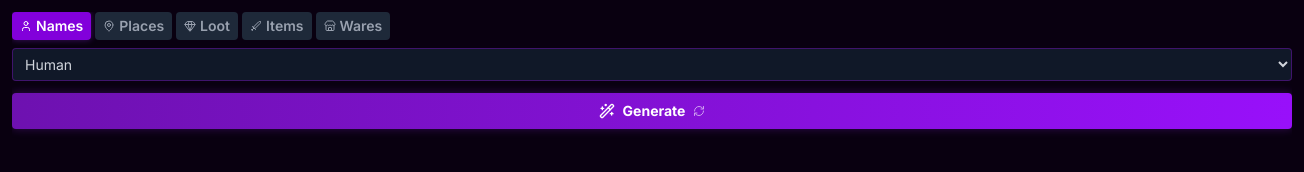
Scenario: OracleWidget — Wares tab › offers the four requested shop types, defaulting to Tavern
Click the button "Wares". click: click(353, 26)
box: [316,12,390,40]
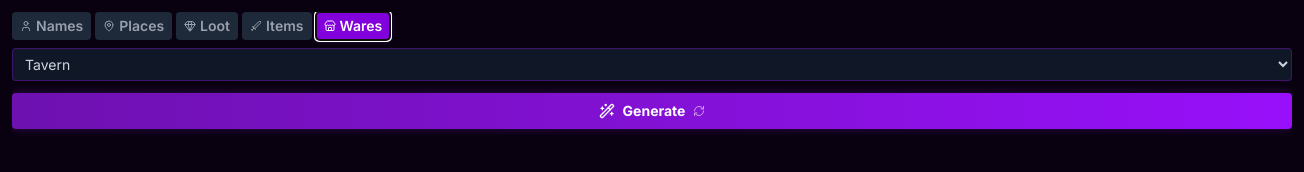
Now the dropdown shows "Tavern", box [12,48,1292,81]
